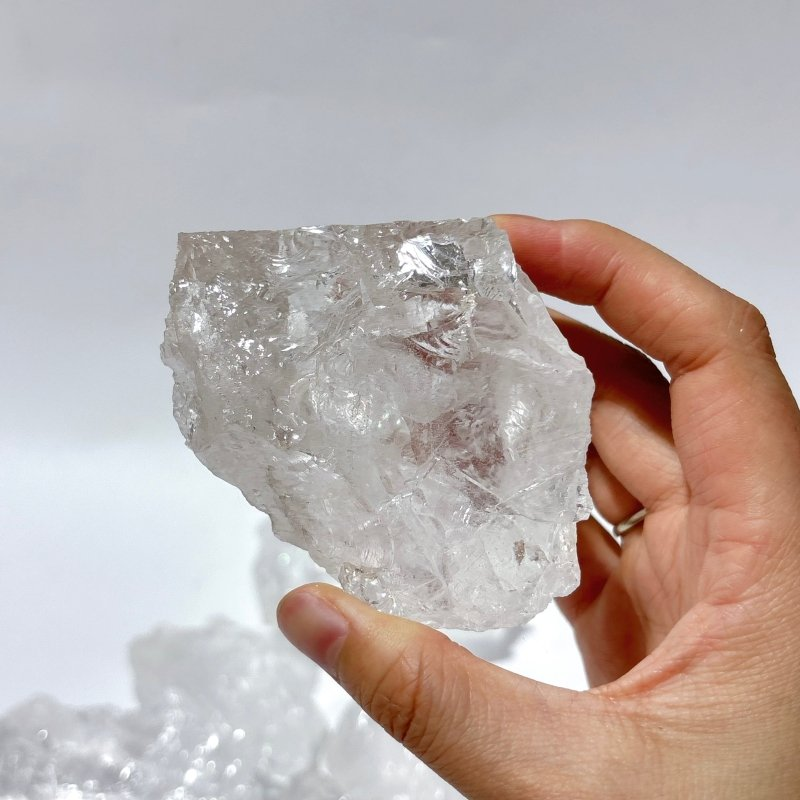Clear_Quartz: (161, 219, 595, 628)
